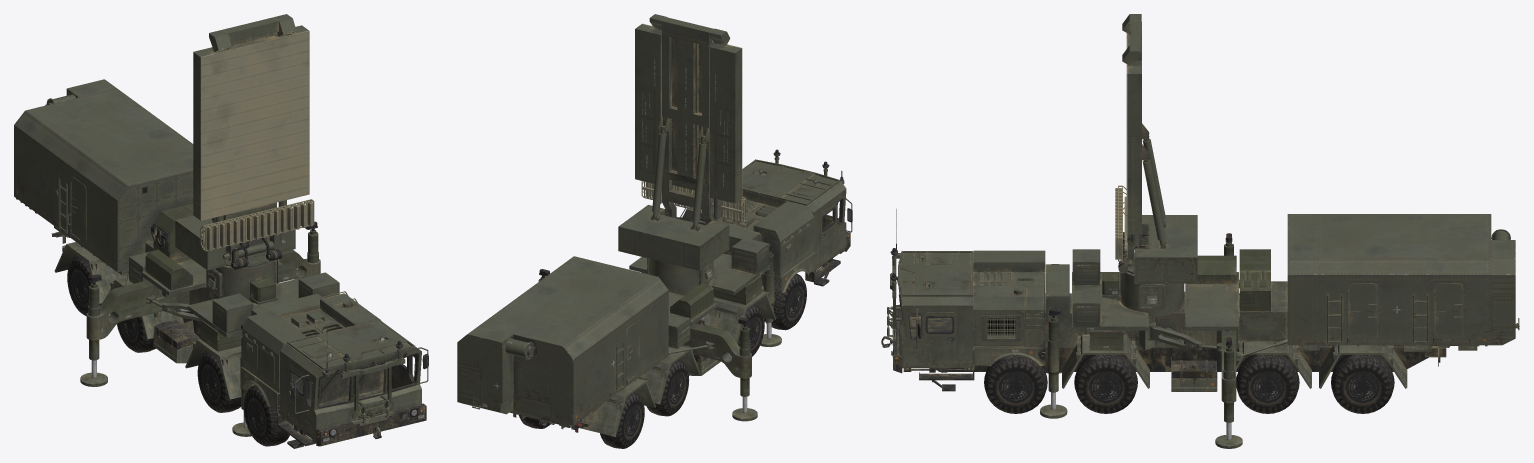
The model's file is 96l6e-mobile-radar.glb.
3 views of the same model, side by side, from view 1: azimuth 30°, elevation 25°; view 2: azimuth 150°, elevation 25°; view 3: azimuth 270°, elevation 25° (orthographic). The views are drawn at different scales.
Visible parts, largest first — view 1: SM_Radar_96L6_01_01_Radar_A.001_0, SM_Radar_96L6_01_01_Radar_A.002_1; view 2: SM_Radar_96L6_01_01_Radar_A.001_0, SM_Radar_96L6_01_01_Radar_A.002_1; view 3: SM_Radar_96L6_01_01_Radar_A.001_0, SM_Radar_96L6_01_01_Radar_A.002_1.
Part boxes in pixels (box(x1,y1,x2,y2)): SM_Radar_96L6_01_01_Radar_A.001_0: box(14, 79, 428, 448); SM_Radar_96L6_01_01_Radar_A.002_1: box(175, 14, 314, 270); SM_Radar_96L6_01_01_Radar_A.001_0: box(457, 149, 852, 448); SM_Radar_96L6_01_01_Radar_A.002_1: box(618, 14, 746, 270); SM_Radar_96L6_01_01_Radar_A.001_0: box(881, 209, 1519, 448); SM_Radar_96L6_01_01_Radar_A.002_1: box(1115, 14, 1197, 283).
Bounding box in the file's own units: 598 × 855 × 1383.
Materials: 1 (1 with a texture image).
